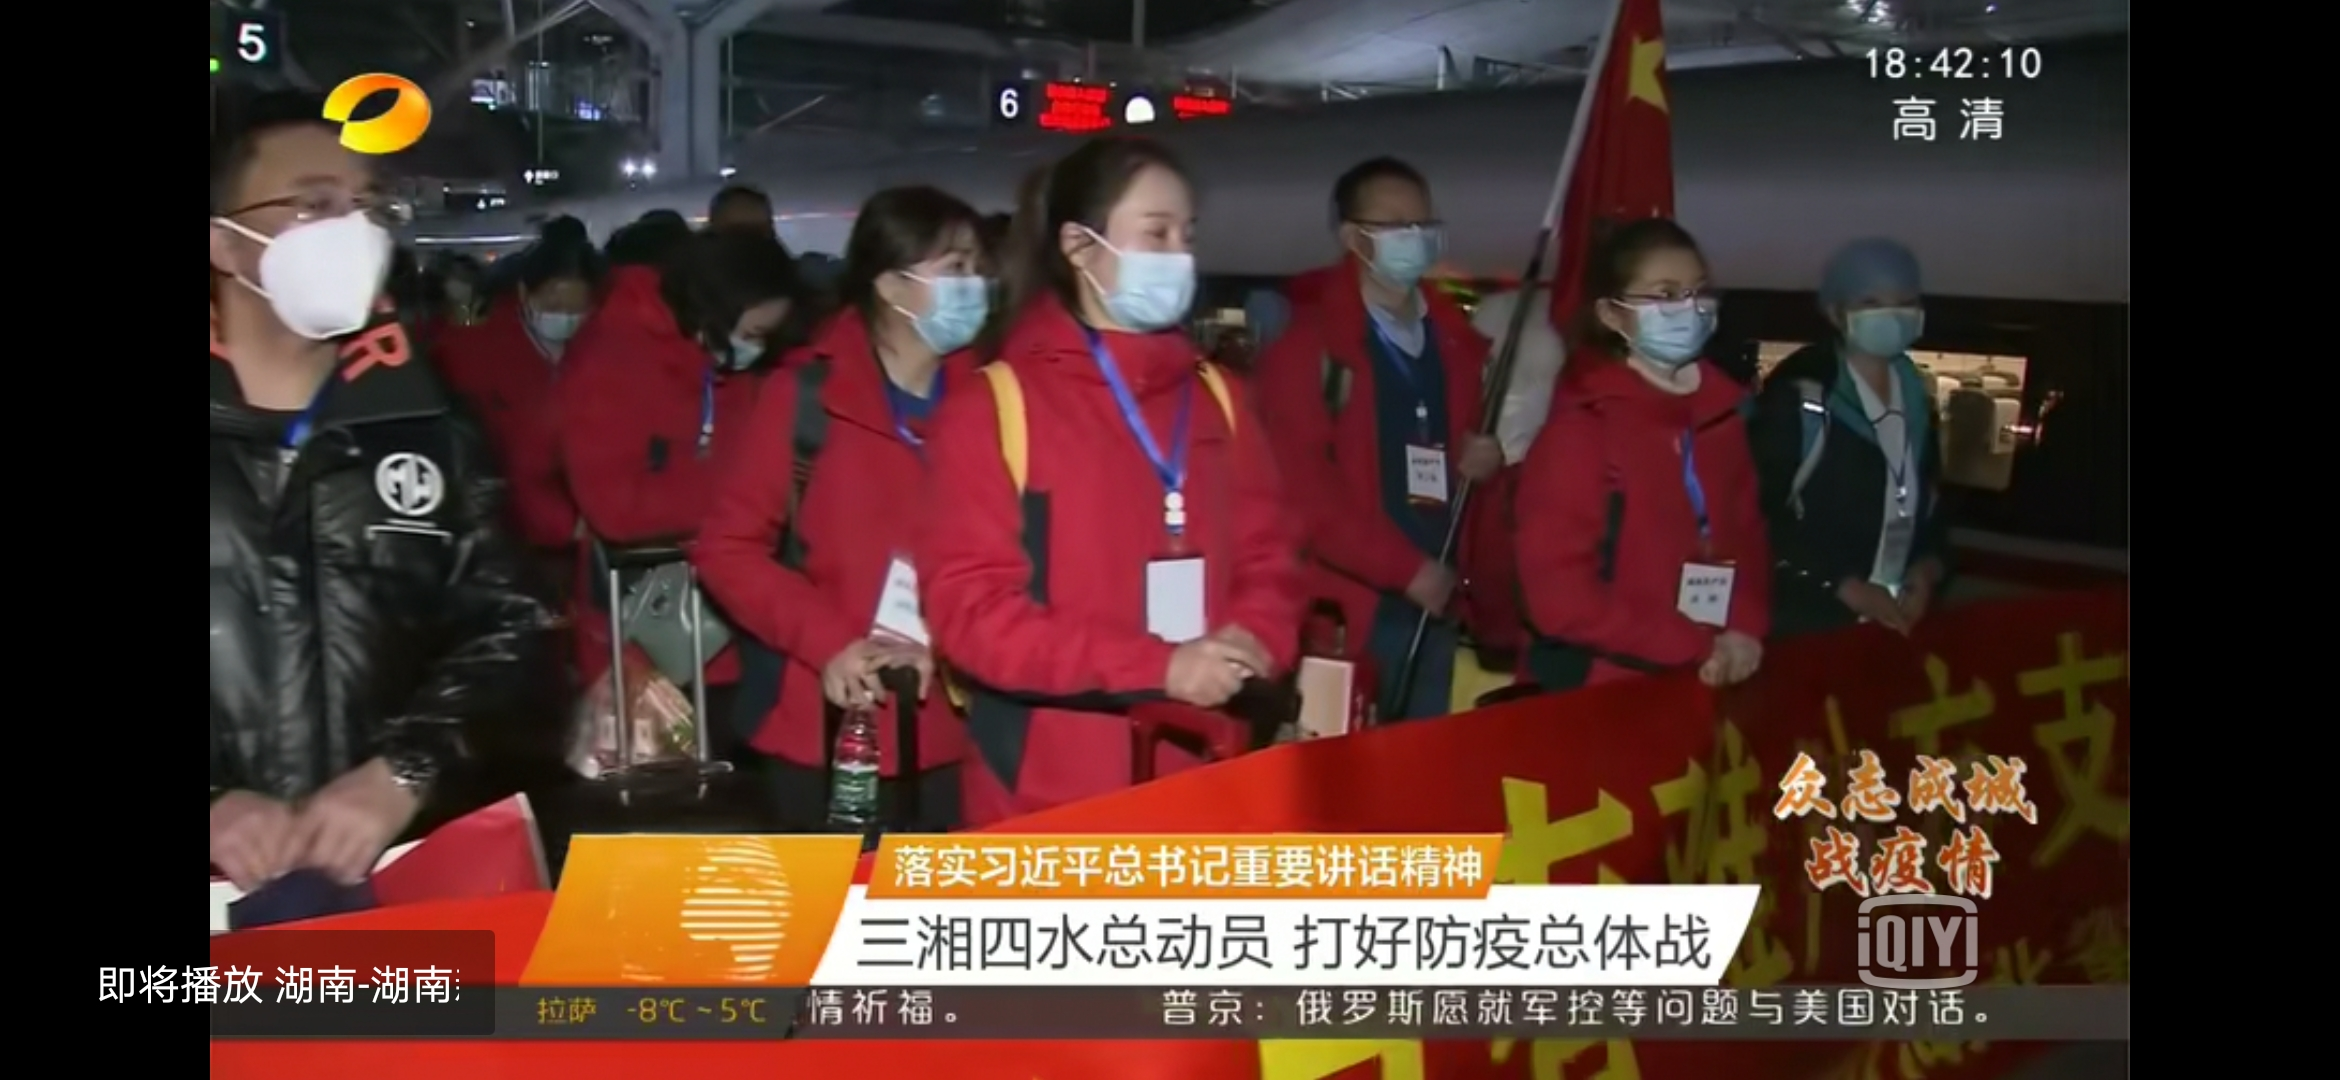correctlyWear: (213, 158, 392, 339), (1055, 192, 1198, 333), (875, 251, 992, 357), (1598, 271, 1724, 367), (1337, 201, 1433, 298), (1830, 269, 1931, 358), (698, 306, 785, 374), (521, 274, 592, 345), (437, 261, 481, 307)
